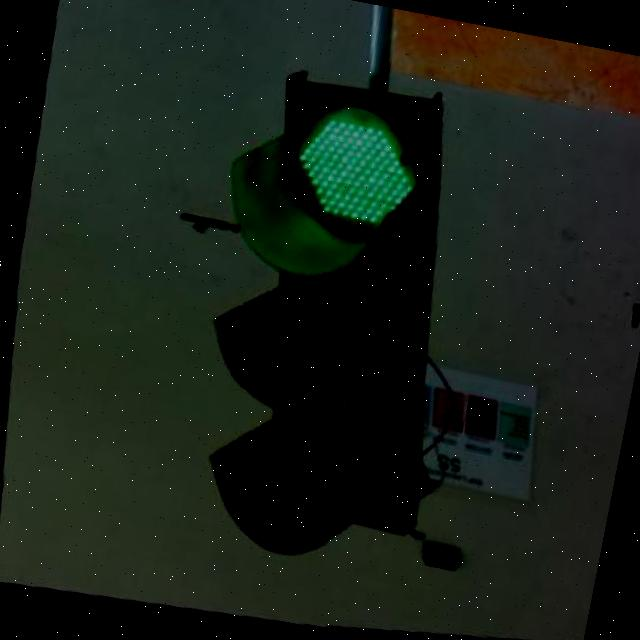green_light: (143, 44, 502, 589)
